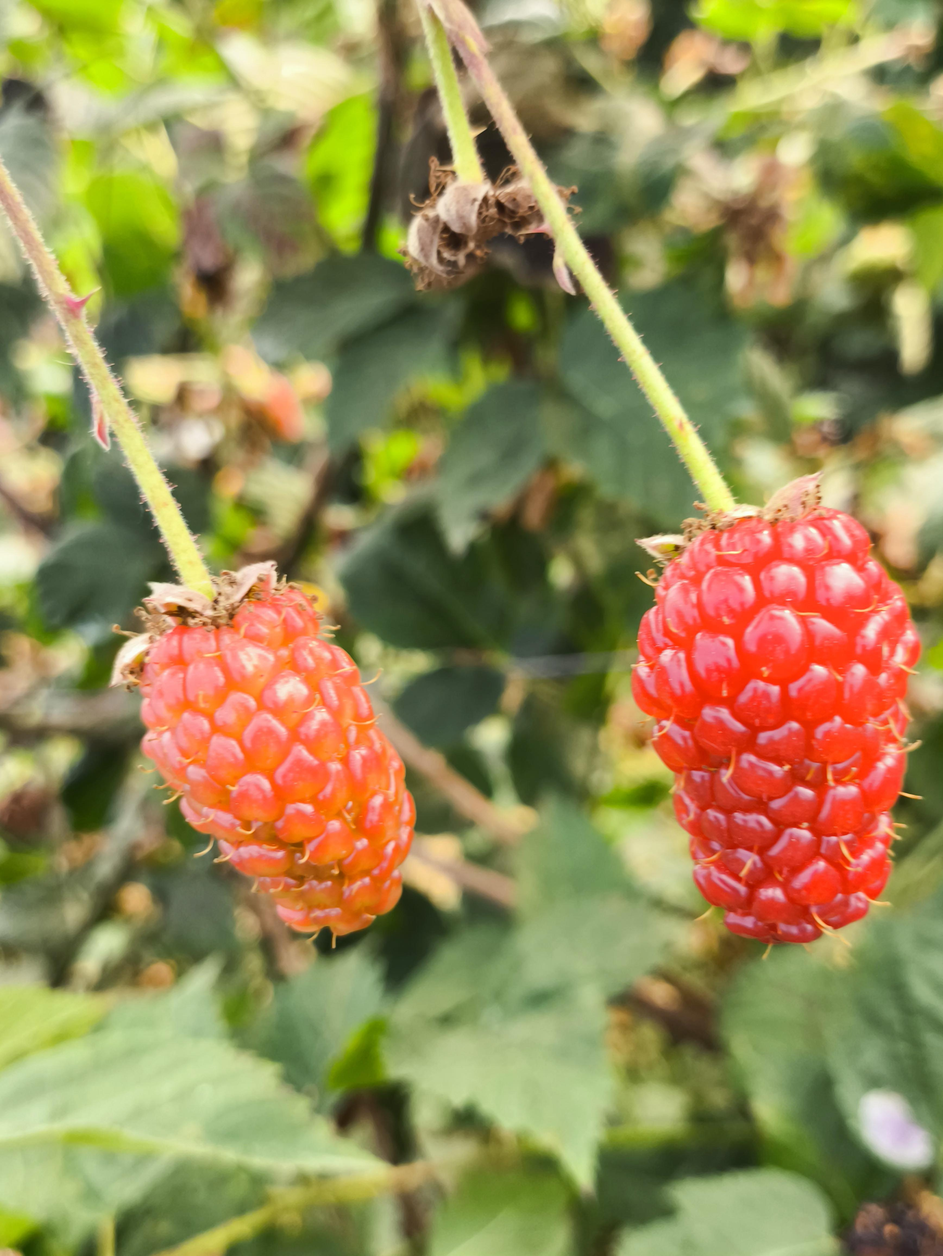naranja: (632, 506, 920, 943), (116, 565, 415, 937)
